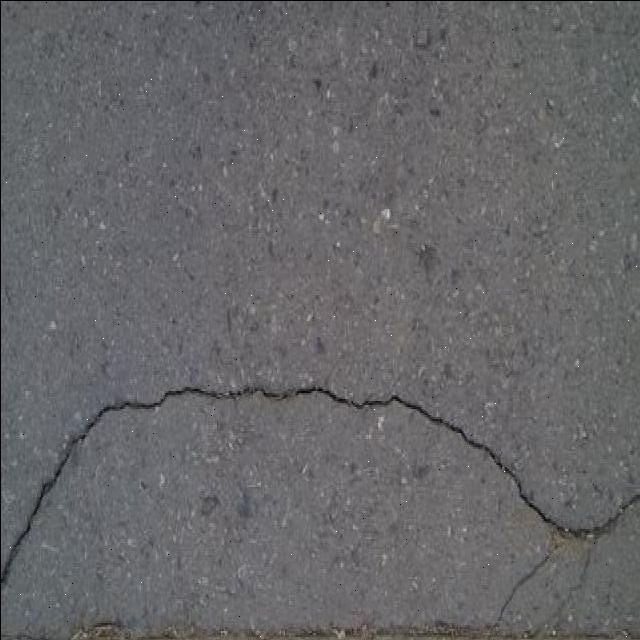crack: (60, 381, 518, 451), (118, 398, 305, 553), (4, 403, 112, 601), (58, 396, 219, 497), (44, 375, 127, 446), (1, 498, 50, 597), (97, 340, 176, 396)
dampens: (147, 384, 262, 407), (282, 384, 367, 404), (340, 392, 404, 410)
dampness: (1, 381, 639, 639)
